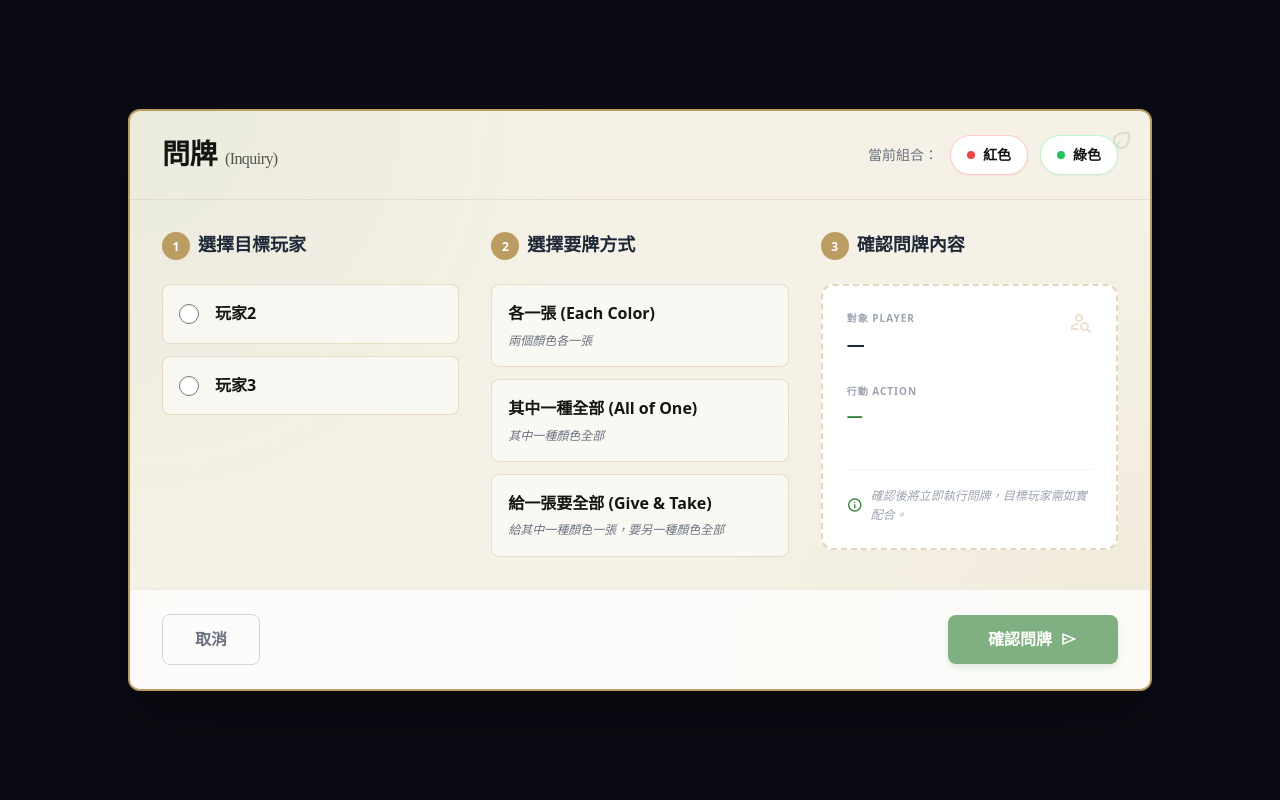
QuestionFlow Component › does not show give color selection for type 3 when player has only one color
The width and height of the screenshot is (1280, 800).
Click the text "玩家2". click: point(236, 313)
box: [215,302,256,324]
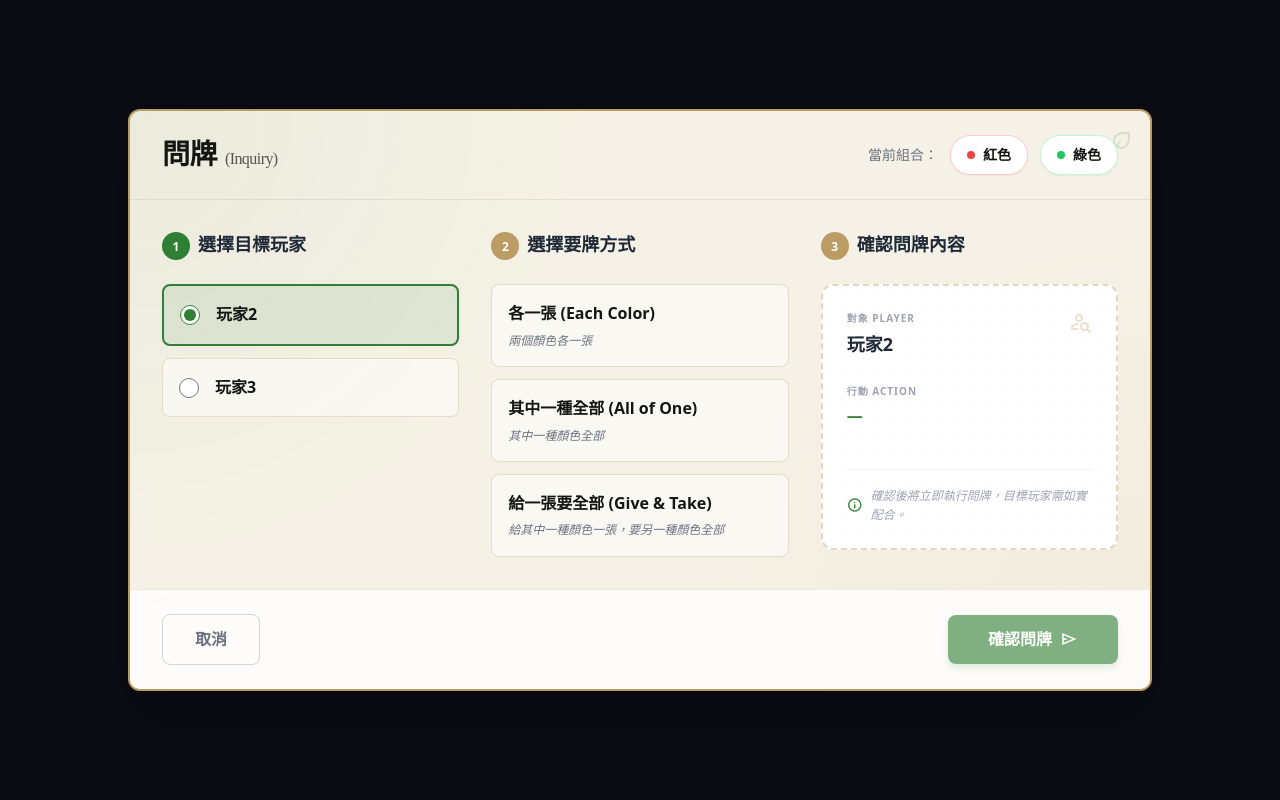
Click the text "給一張要全部 (Give & Take)". click: point(610, 504)
box: [508,491,712,516]
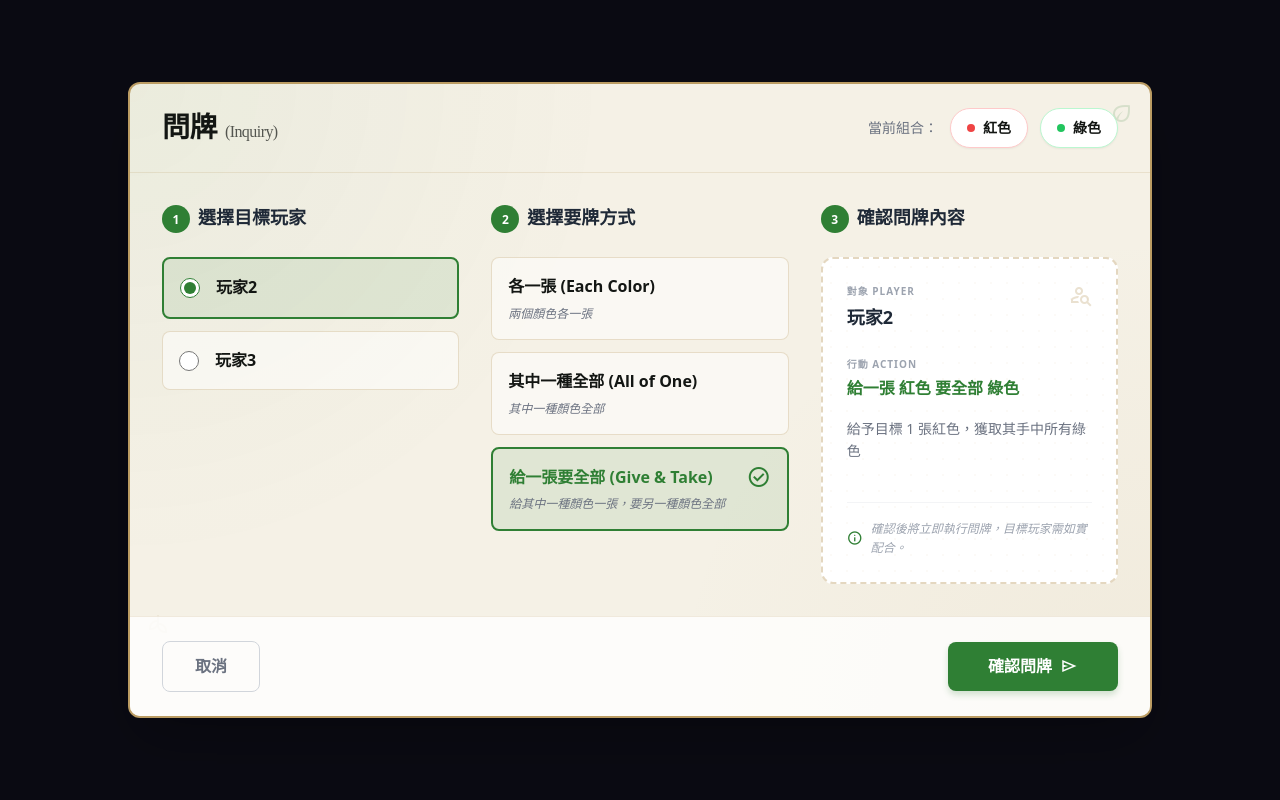
Expected: the button "確認問牌" is enabled, [948,642,1118,691]
